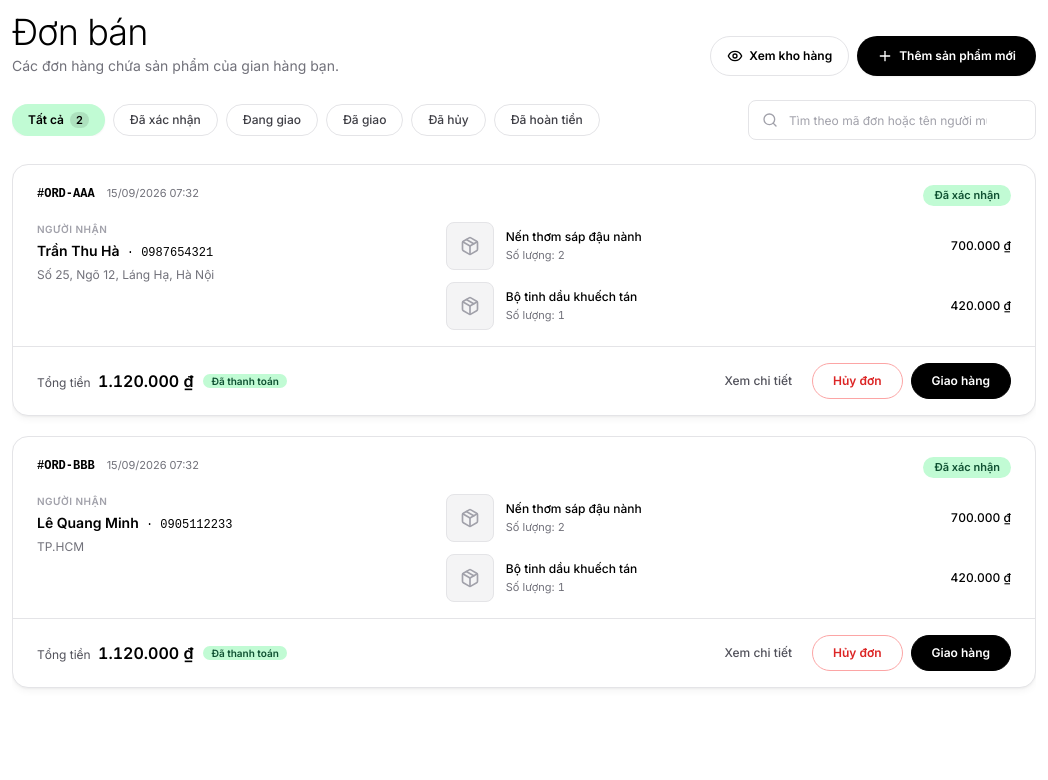
it: SellerOrdersPage › tìm theo mã đơn hoặc tên người mua
In the search field with placeholder "Tìm theo mã đơn hoặc tên người mua...": (892, 120) [748,100,1036,140], type "quang minh"
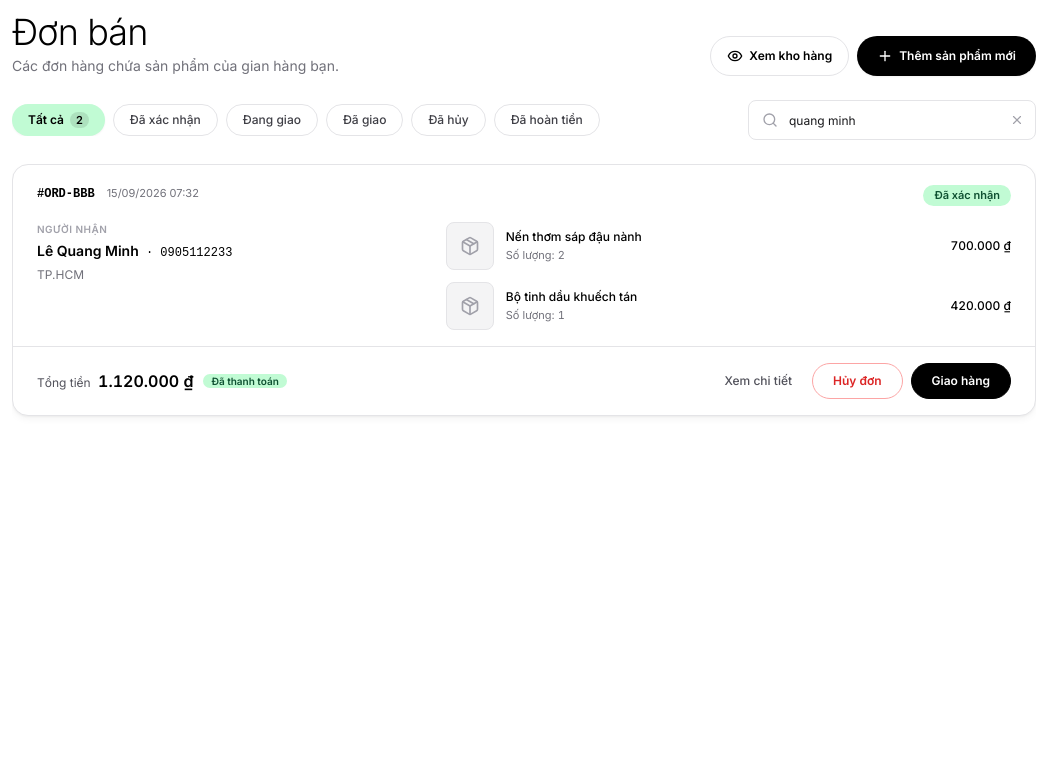
Expected: the text "#ORD-BBB" is shown, [37,186,95,202]
Result: the number of elements with test id "seller-order-card" is 1 at [12,164,1036,416]
Replace the text in the search field with placeholder "Tìm theo mã đơn hoặc tên người mua..." with "zzz": (892, 120) [748,100,1036,140]
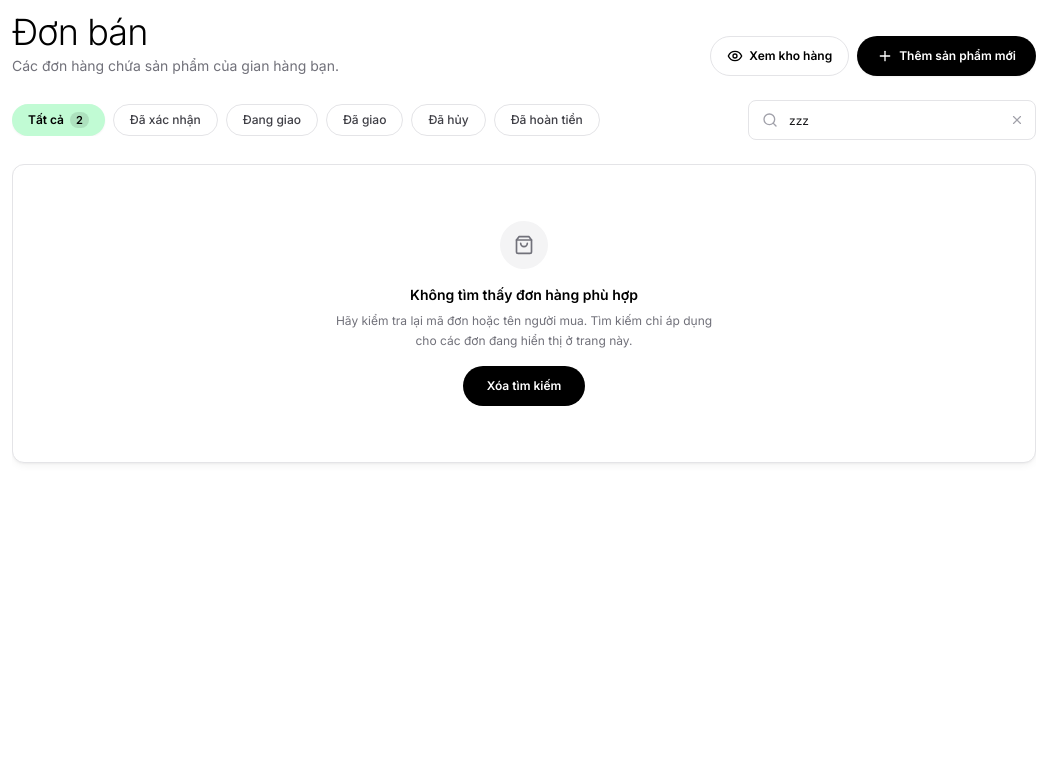
Result: the element with test id "seller-orders-filtered-empty" is shown at [12,164,1036,463]
